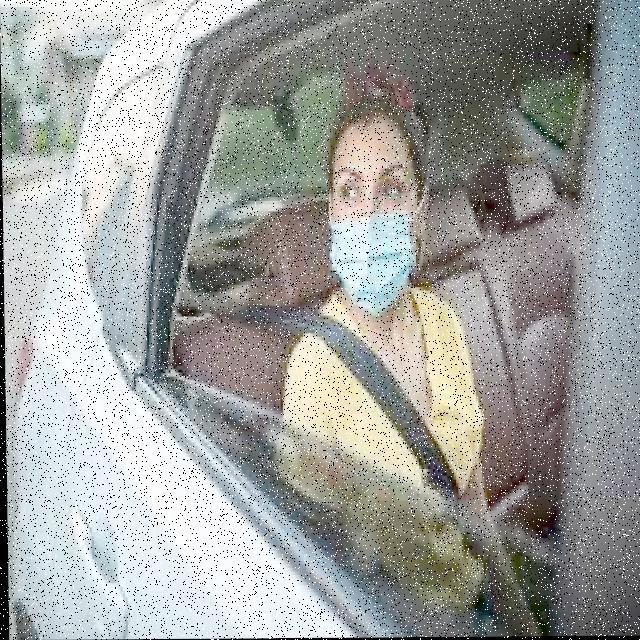seatbelt: (274, 286, 494, 530)
